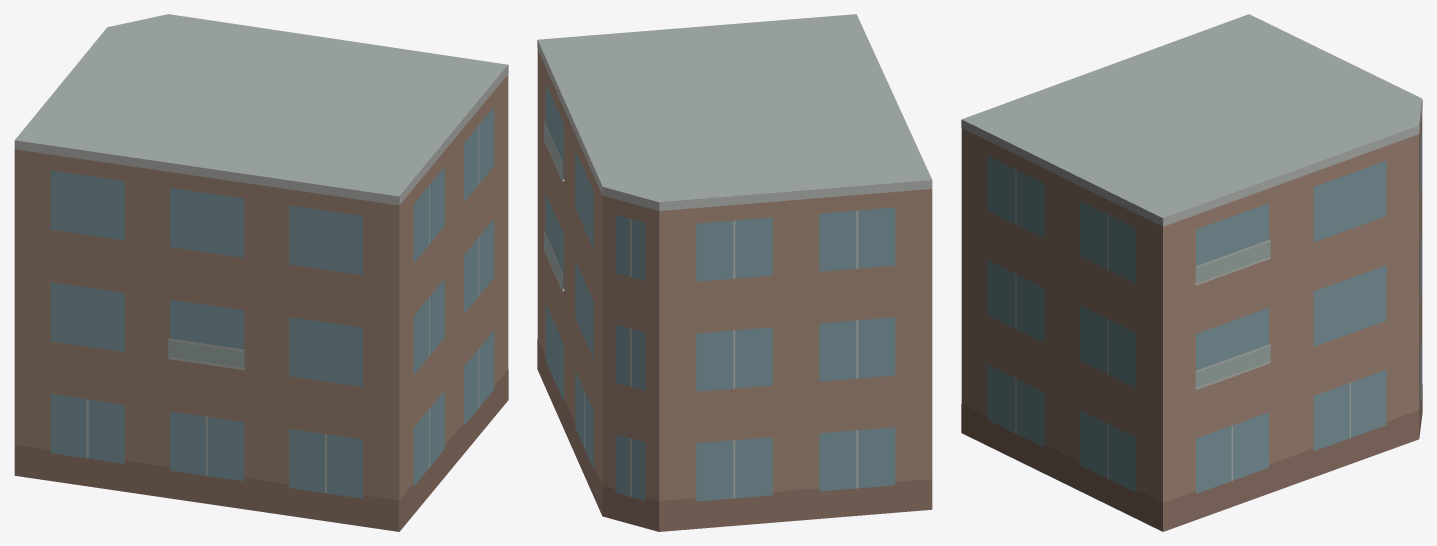
The model's file is survey-upis-32495825.glb.
The picture shows the model from 3 angles, left to right: view 1: azimuth 30°, elevation 25°; view 2: azimuth 150°, elevation 25°; view 3: azimuth 270°, elevation 25°; orthographic projection. The views are drawn at different scales.
Visible parts, largest first — view 1: survey-upis-32495825.tmp; view 2: survey-upis-32495825.tmp; view 3: survey-upis-32495825.tmp.
Part boxes in pixels (x1,y1,x2,y2): survey-upis-32495825.tmp: (14, 14, 508, 531); survey-upis-32495825.tmp: (537, 14, 932, 531); survey-upis-32495825.tmp: (961, 14, 1422, 531).
Bounding box in the file's own units: 12.72 × 9.1 × 12.13.
